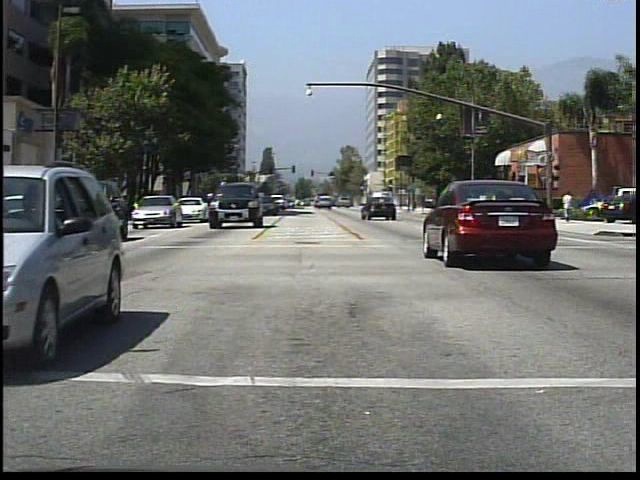person: (559, 188, 580, 232), (513, 190, 530, 227)
